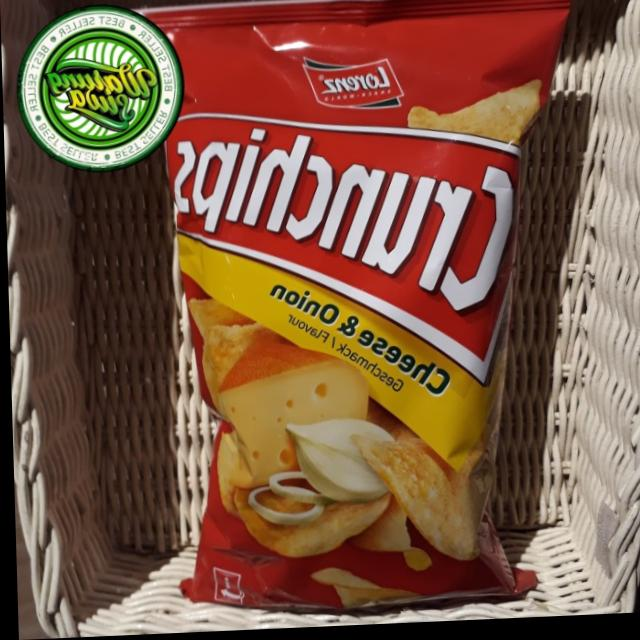crunchips: (167, 115, 520, 396)
